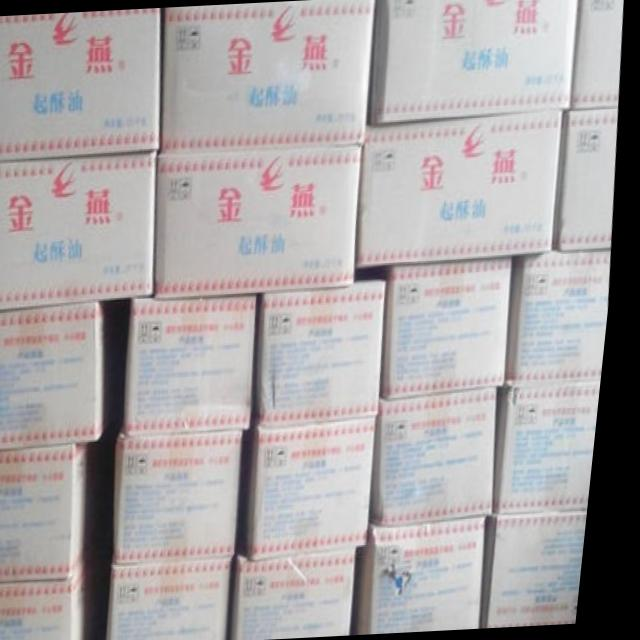box: (362, 113, 567, 268), (162, 0, 376, 148), (160, 148, 366, 296), (0, 149, 161, 312), (374, 0, 579, 120), (0, 10, 163, 160), (264, 279, 391, 431), (0, 300, 126, 450), (388, 260, 517, 402), (133, 296, 263, 435), (379, 387, 507, 528), (258, 418, 383, 558), (127, 428, 252, 558), (0, 441, 112, 583), (371, 519, 498, 635), (514, 250, 616, 387), (506, 382, 609, 515), (494, 512, 598, 629), (244, 549, 368, 640), (120, 555, 245, 640), (0, 552, 112, 640), (560, 109, 620, 252), (573, 0, 623, 107)
